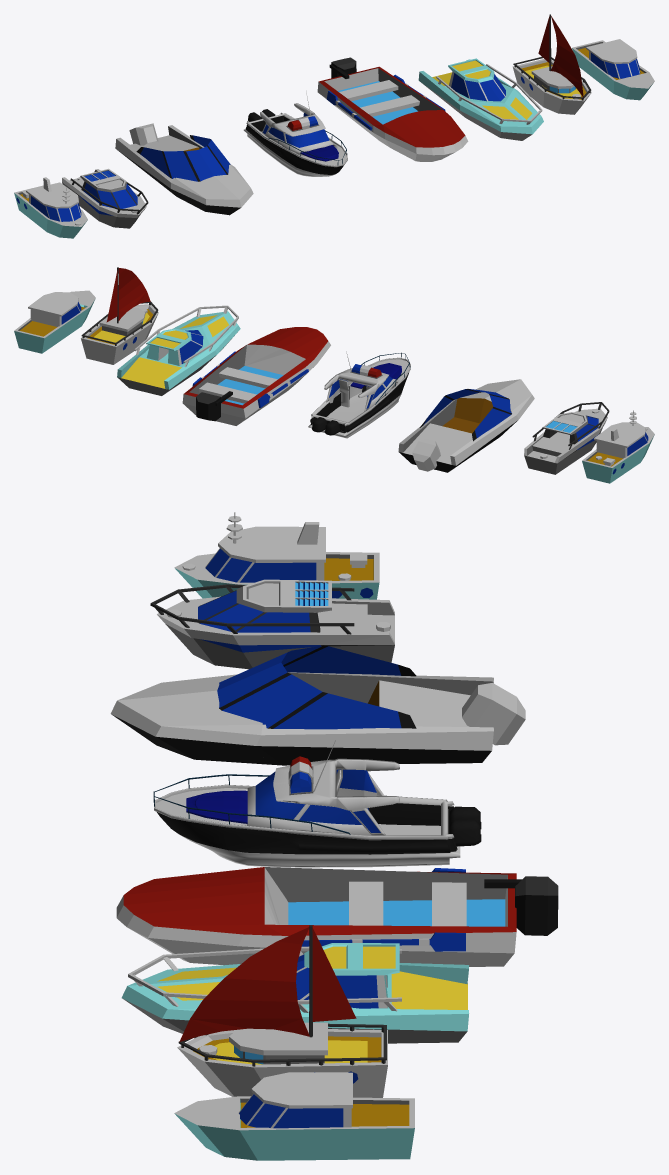
File: Boats_SeparatePieces.fbx
3 renders of one model, top to bottom at view 1: azimuth 30°, elevation 25°; view 2: azimuth 150°, elevation 25°; view 3: azimuth 270°, elevation 25°, orthographic. The views are drawn at different scales.
Parts seen in each view (by area): view 1: piece_17_geo, piece_18_geo, piece_10_geo, piece_11_geo, piece_33_geo, piece_19_geo, piece_36_geo, piece_12_geo, piece_26_geo, piece_05_geo, piece_30_geo, piece_02_geo (+15 smaller); view 2: piece_17_geo, piece_12_geo, piece_18_geo, piece_07_geo, piece_36_geo, piece_33_geo, piece_10_geo, piece_26_geo, piece_21_geo, piece_28_geo, piece_19_geo, piece_03_geo (+14 smaller); view 3: piece_17_geo, piece_12_geo, piece_33_geo, piece_11_geo, piece_36_geo, piece_10_geo, piece_07_geo, piece_24_geo, piece_18_geo, piece_28_geo, piece_26_geo, piece_30_geo (+16 smaller).
Part boxes in pixels (left/top/right/bottom): piece_17_geo: left=317, top=66, right=468, bottom=161; piece_18_geo: left=418, top=59, right=543, bottom=140; piece_10_geo: left=171, top=165, right=253, bottom=215; piece_11_geo: left=136, top=135, right=230, bottom=181; piece_33_geo: left=243, top=112, right=347, bottom=176; piece_19_geo: left=448, top=58, right=505, bottom=101; piece_36_geo: left=260, top=90, right=333, bottom=154; piece_12_geo: left=115, top=125, right=233, bottom=196; piece_26_geo: left=512, top=59, right=591, bottom=114; piece_05_geo: left=80, top=168, right=137, bottom=208; piece_30_geo: left=586, top=39, right=640, bottom=78; piece_02_geo: left=26, top=182, right=81, bottom=221; piece_17_geo: left=182, top=327, right=330, bottom=425; piece_12_geo: left=398, top=399, right=518, bottom=472; piece_18_geo: left=117, top=311, right=240, bottom=395; piece_07_geo: left=524, top=408, right=607, bottom=474; piece_36_geo: left=324, top=351, right=396, bottom=422; piece_33_geo: left=308, top=357, right=410, bottom=438; piece_10_geo: left=454, top=379, right=534, bottom=423; piece_26_geo: left=81, top=304, right=158, bottom=364; piece_21_geo: left=121, top=315, right=228, bottom=388; piece_28_geo: left=14, top=306, right=90, bottom=353; piece_19_geo: left=146, top=328, right=203, bottom=365; piece_03_geo: left=582, top=427, right=654, bottom=483; piece_17_geo: left=116, top=867, right=516, bottom=966; piece_12_geo: left=256, top=672, right=493, bottom=765; piece_33_geo: left=154, top=784, right=460, bottom=867; piece_11_geo: left=217, top=645, right=416, bottom=729; piece_36_geo: left=247, top=740, right=440, bottom=835; piece_10_geo: left=110, top=674, right=282, bottom=765; piece_07_geo: left=157, top=596, right=394, bottom=669; piece_24_geo: left=179, top=927, right=309, bottom=1041; piece_18_geo: left=121, top=963, right=469, bottom=1043; piece_28_geo: left=239, top=1096, right=414, bottom=1160; piece_26_geo: left=177, top=1029, right=387, bottom=1097; piece_30_geo: left=238, top=1072, right=352, bottom=1128.
Size of the model in its own units: 5822 by 778 by 1901.
Materials: 1 (1 with a texture image).
